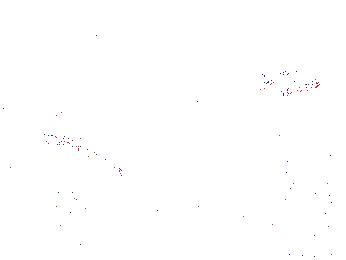glassfish: (41, 127, 135, 193)
red belly glassfish: (318, 37, 337, 57)
redtail glassfish: (253, 65, 322, 95)
